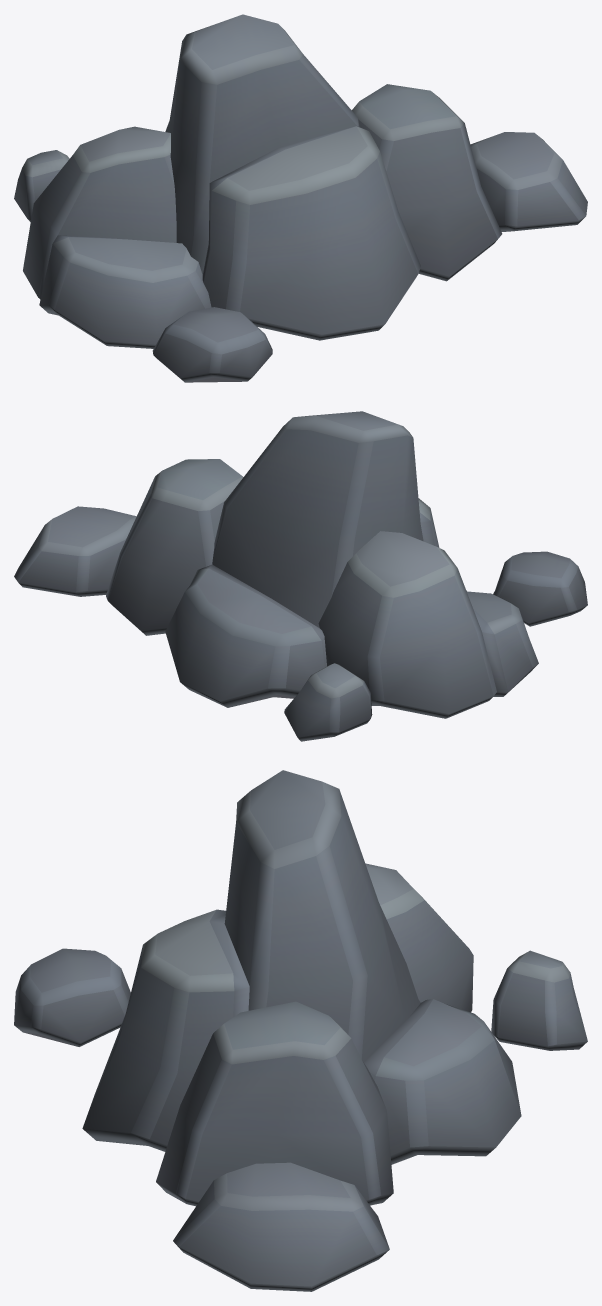
The model's file is rock_group_small.fbx.
3 renders of one model, top to bottom at view 1: azimuth 30°, elevation 25°; view 2: azimuth 150°, elevation 25°; view 3: azimuth 270°, elevation 25°, orthographic. The views are drawn at different scales.
Visible parts, largest first — view 1: rock_arrangement_small; view 2: rock_arrangement_small; view 3: rock_arrangement_small.
Boxes of the visible parts, box(x1,y1,x2,y2) form: rock_arrangement_small: box(14, 14, 587, 382); rock_arrangement_small: box(14, 411, 587, 741); rock_arrangement_small: box(14, 770, 587, 1291).
Bounding box in the file's own units: 335 × 166 × 259.
